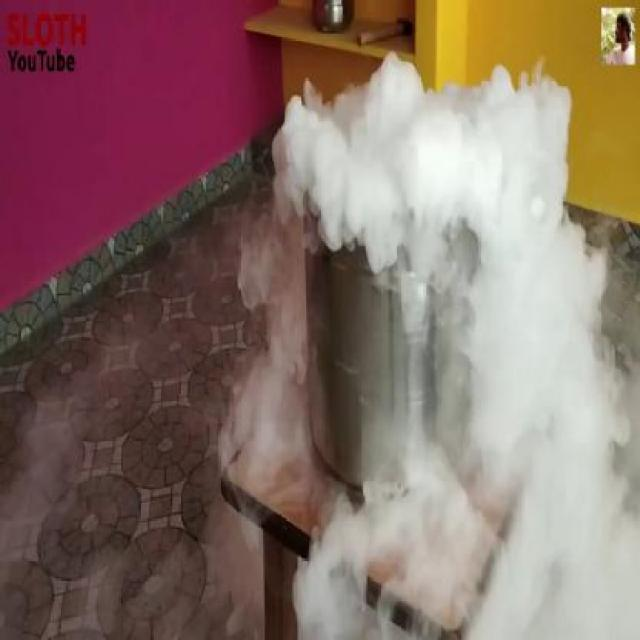smoke: (269, 72, 640, 638)
